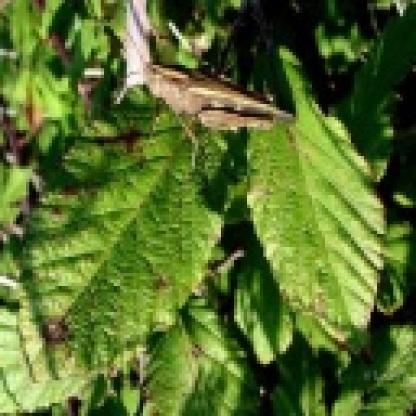grasshopper: (132, 54, 304, 150)
